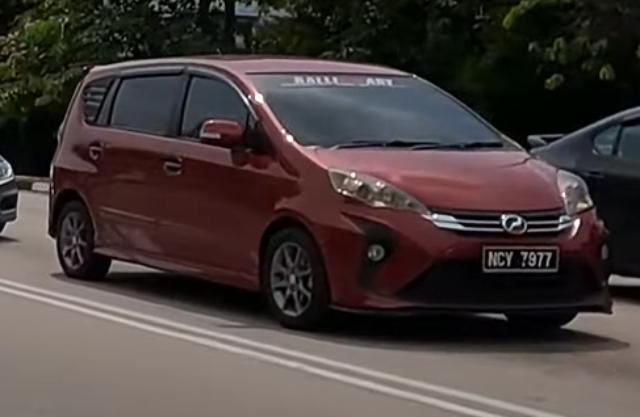License_Plate: (481, 245, 561, 276)
car: (48, 55, 615, 334)
